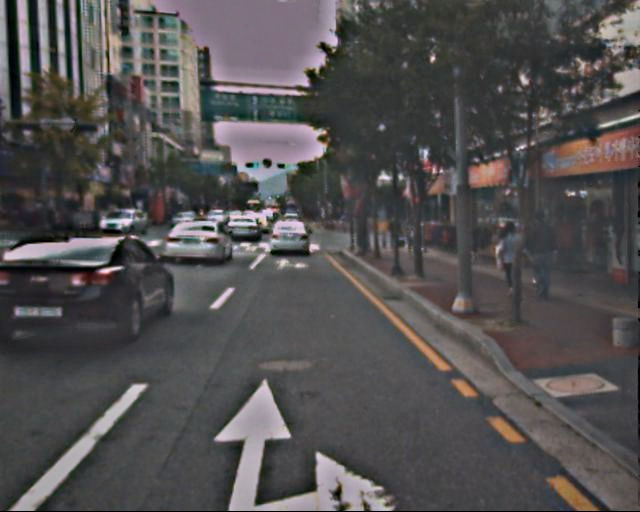person: (519, 208, 558, 302), (493, 220, 524, 296), (403, 217, 419, 256)
